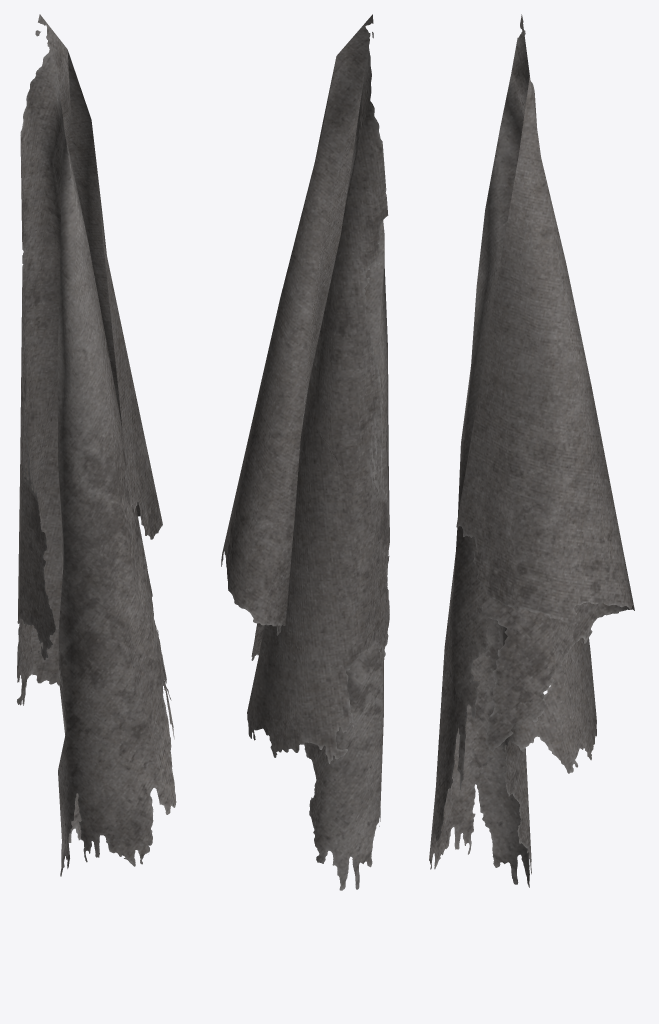
File: SM_Rags_3.fbx
The picture shows the model from 3 angles, left to right: view 1: azimuth 30°, elevation 25°; view 2: azimuth 150°, elevation 25°; view 3: azimuth 270°, elevation 25°; orthographic projection. The views are drawn at different scales.
Parts seen in each view (by area): view 1: SM_Rags_3_LOD0; view 2: SM_Rags_3_LOD0; view 3: SM_Rags_3_LOD0.
Boxes of the visible parts, <box> form: SM_Rags_3_LOD0: <box>17,14,176,876</box>; SM_Rags_3_LOD0: <box>221,14,389,890</box>; SM_Rags_3_LOD0: <box>429,14,634,887</box>.
Bounding box in the file's own units: 13.6 × 16.29 × 80.42.
